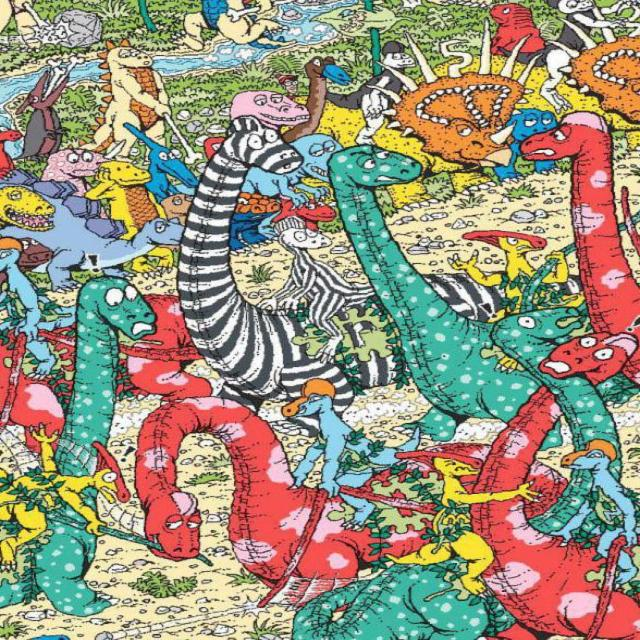waldo: (274, 73, 300, 95)
